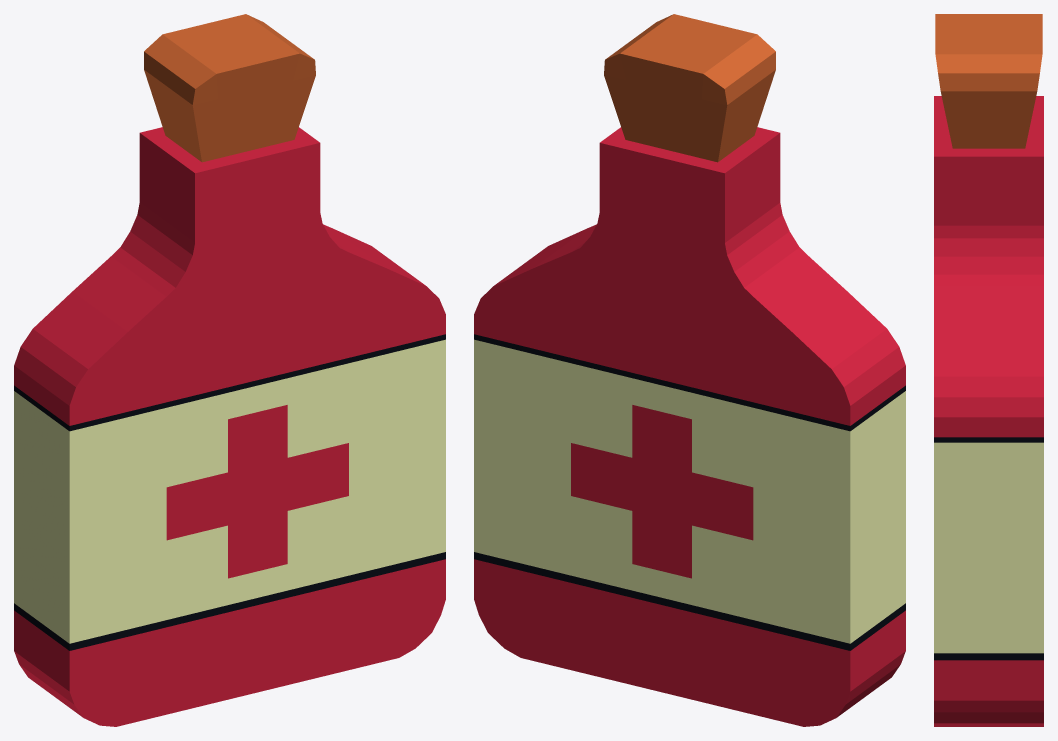
File: HealingPotion.fbx
The picture shows the model from 3 angles, left to right: view 1: azimuth 30°, elevation 25°; view 2: azimuth 150°, elevation 25°; view 3: azimuth 270°, elevation 25°; orthographic projection.
Parts seen in each view (by area): view 1: Cube; view 2: Cube; view 3: Cube.
Part boxes in pixels (x1=…): Cube: x1=14, y1=14, x2=445, y2=726; Cube: x1=474, y1=14, x2=905, y2=726; Cube: x1=934, y1=14, x2=1043, y2=726.
Bounding box in the file's own units: 837 × 1335 × 214.
